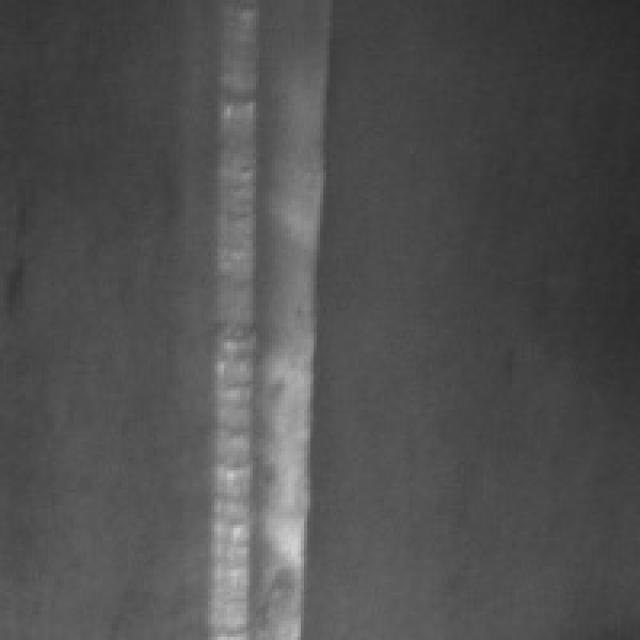scratches: (195, 0, 339, 634)
